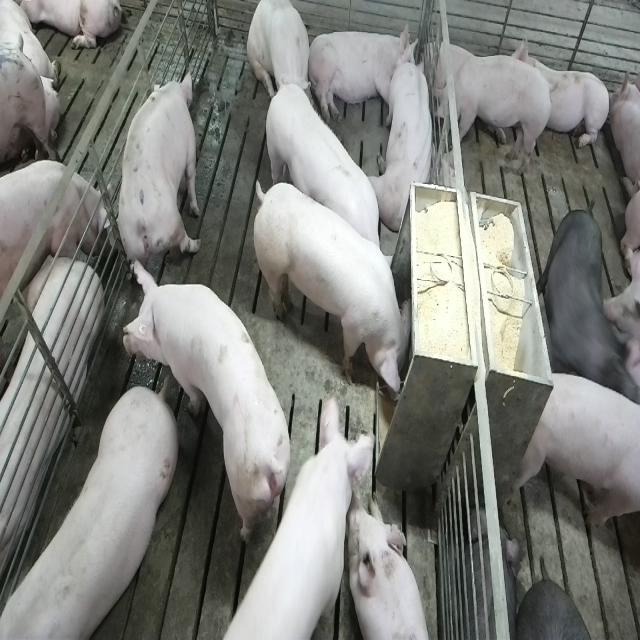Feeding: (255, 174, 419, 408)
Lateral_lying: (0, 207, 103, 593), (307, 21, 417, 127)
Sitting: (247, 0, 315, 116)
Standing: (125, 267, 295, 556), (0, 384, 176, 640), (260, 78, 390, 280), (508, 368, 638, 538), (116, 71, 205, 284), (426, 50, 554, 182), (0, 161, 106, 305)
Sternal_lying: (374, 45, 437, 234), (513, 31, 610, 153), (351, 501, 433, 640)
